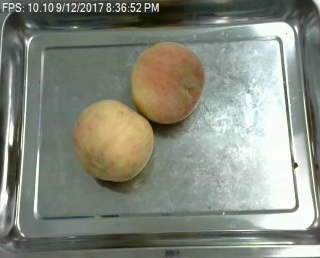Peach: (73, 98, 154, 182), (131, 41, 204, 123)
